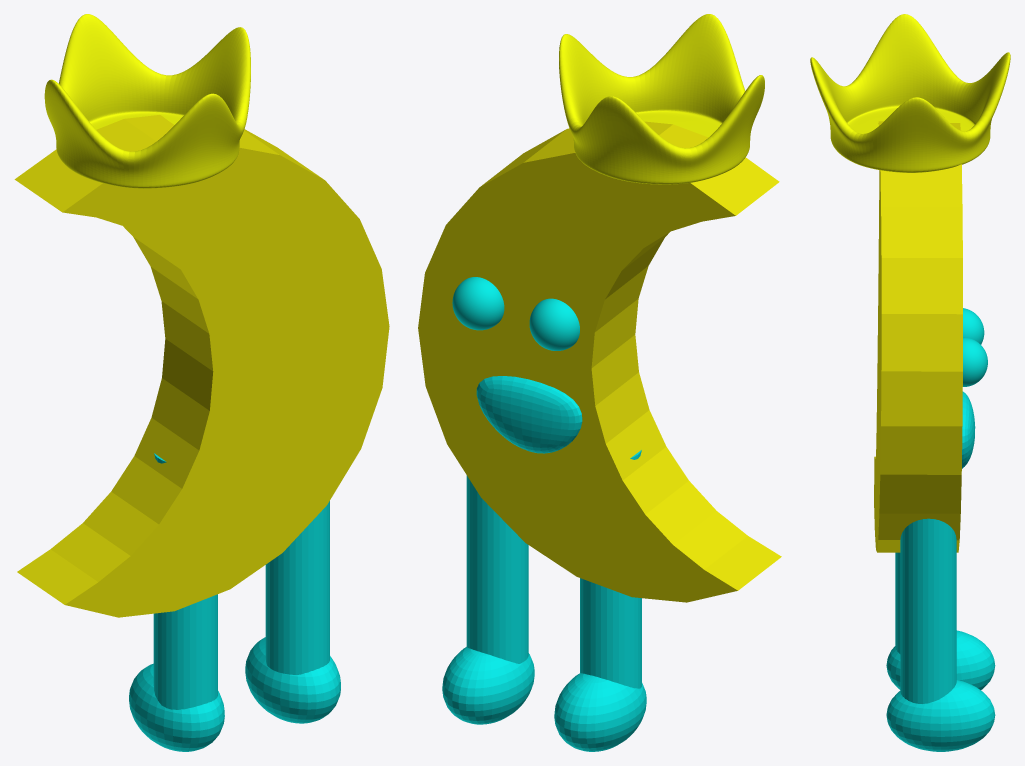
File: luna.glb
3 views of the same model, side by side, from view 1: azimuth 30°, elevation 25°; view 2: azimuth 150°, elevation 25°; view 3: azimuth 270°, elevation 25° (orthographic). The views are drawn at different scales.
Parts seen in each view (by area): view 1: Esfera; view 2: Esfera; view 3: Esfera.
Boxes of the visible parts, box(x1,y1,x2,y2) form: Esfera: box(14, 14, 389, 751); Esfera: box(418, 14, 781, 751); Esfera: box(810, 14, 1010, 751).
Size of the model in its own units: 1.66 by 3.43 by 0.9995.
